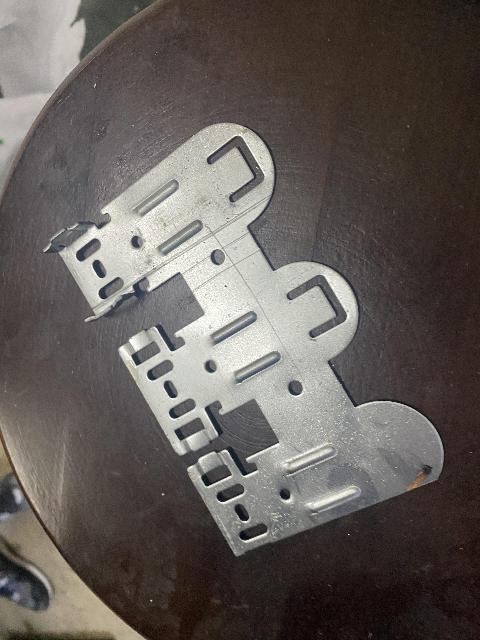Metal: (37, 124, 449, 554)
